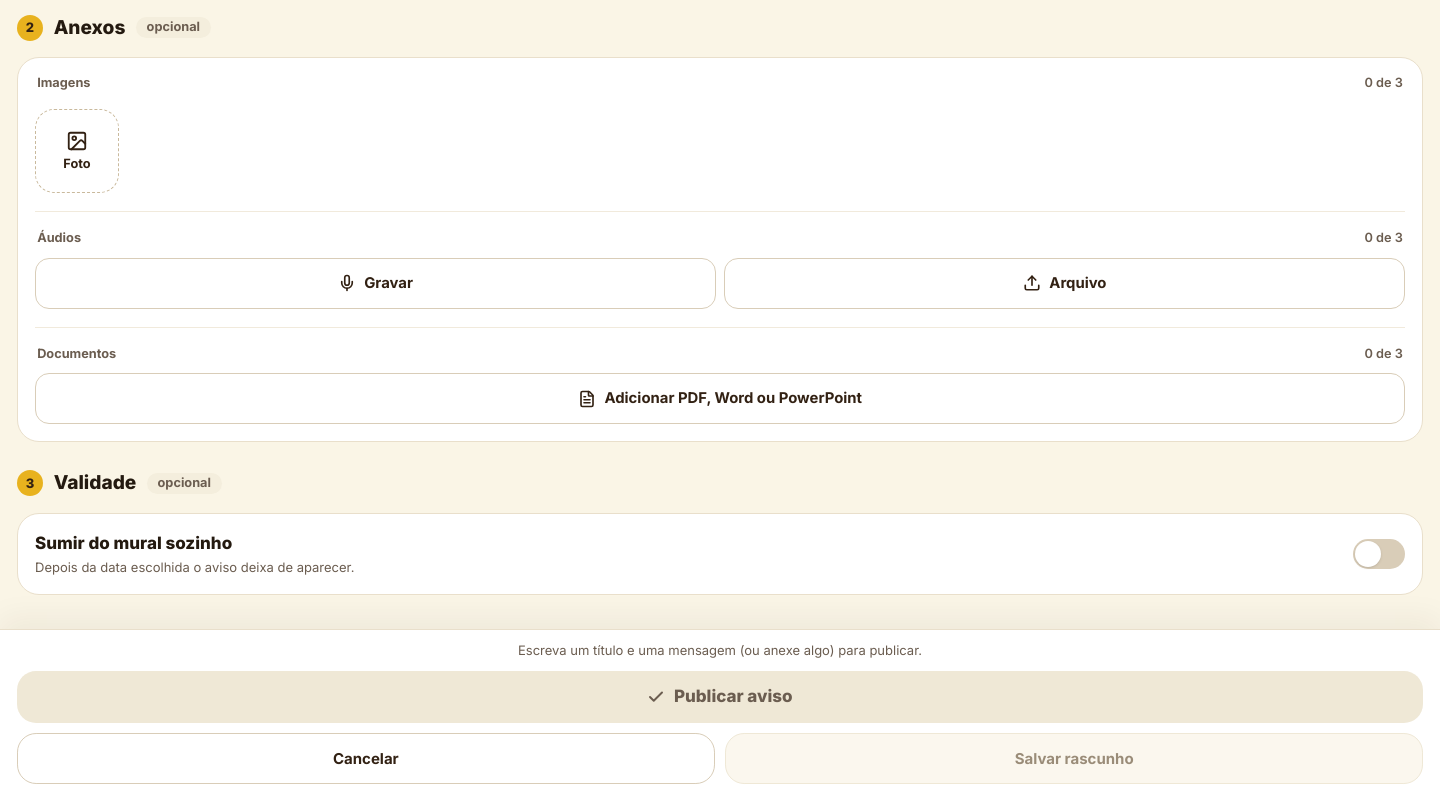
AnnouncementForm (novo visual) › dias passados do calendário de validade ficam desativados
The width and height of the screenshot is (1440, 810).
(page scrolled)
Click the switch at (1379, 554), box left=1353, top=539, right=1405, bottom=569
(page scrolled)
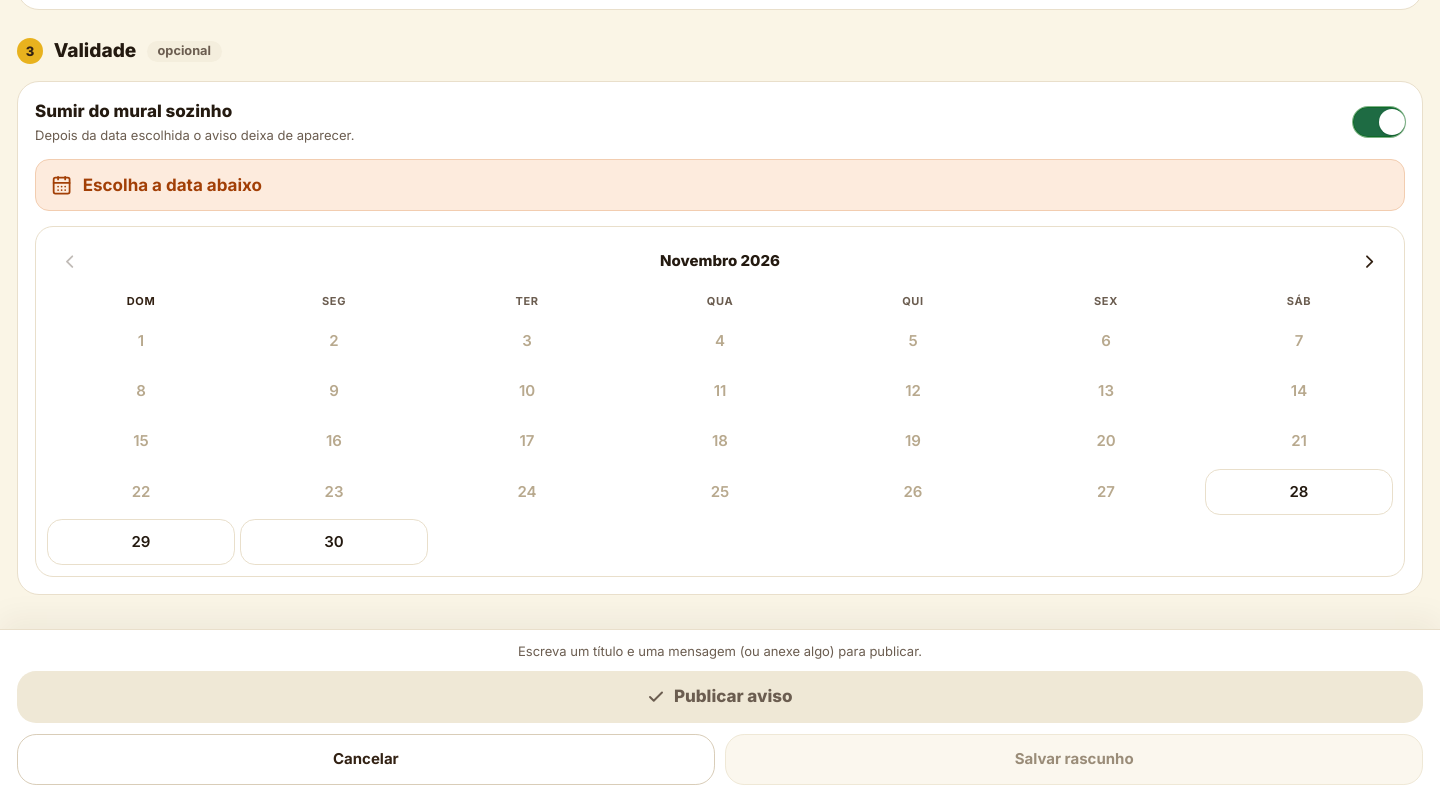
Result: the button named "Mês anterior" is disabled at left=47, top=238, right=93, bottom=285
